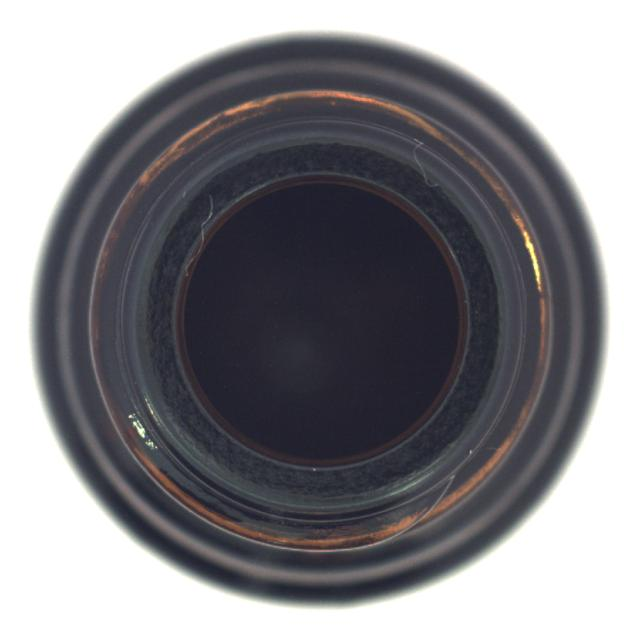bottle-good: (31, 32, 596, 604)
